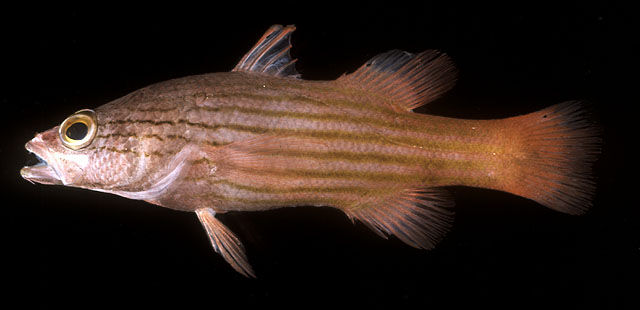fish: (20, 24, 598, 278)
